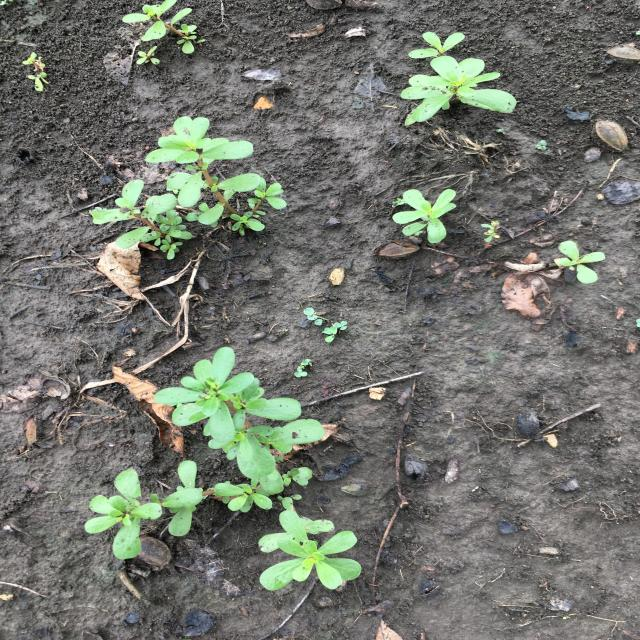Purslane: (84, 347, 326, 559), (146, 116, 287, 236), (400, 32, 517, 126), (258, 494, 362, 591), (89, 180, 192, 260), (122, 0, 205, 53), (393, 189, 457, 243), (558, 240, 606, 284), (22, 52, 50, 91), (481, 220, 501, 248), (136, 46, 159, 64)
